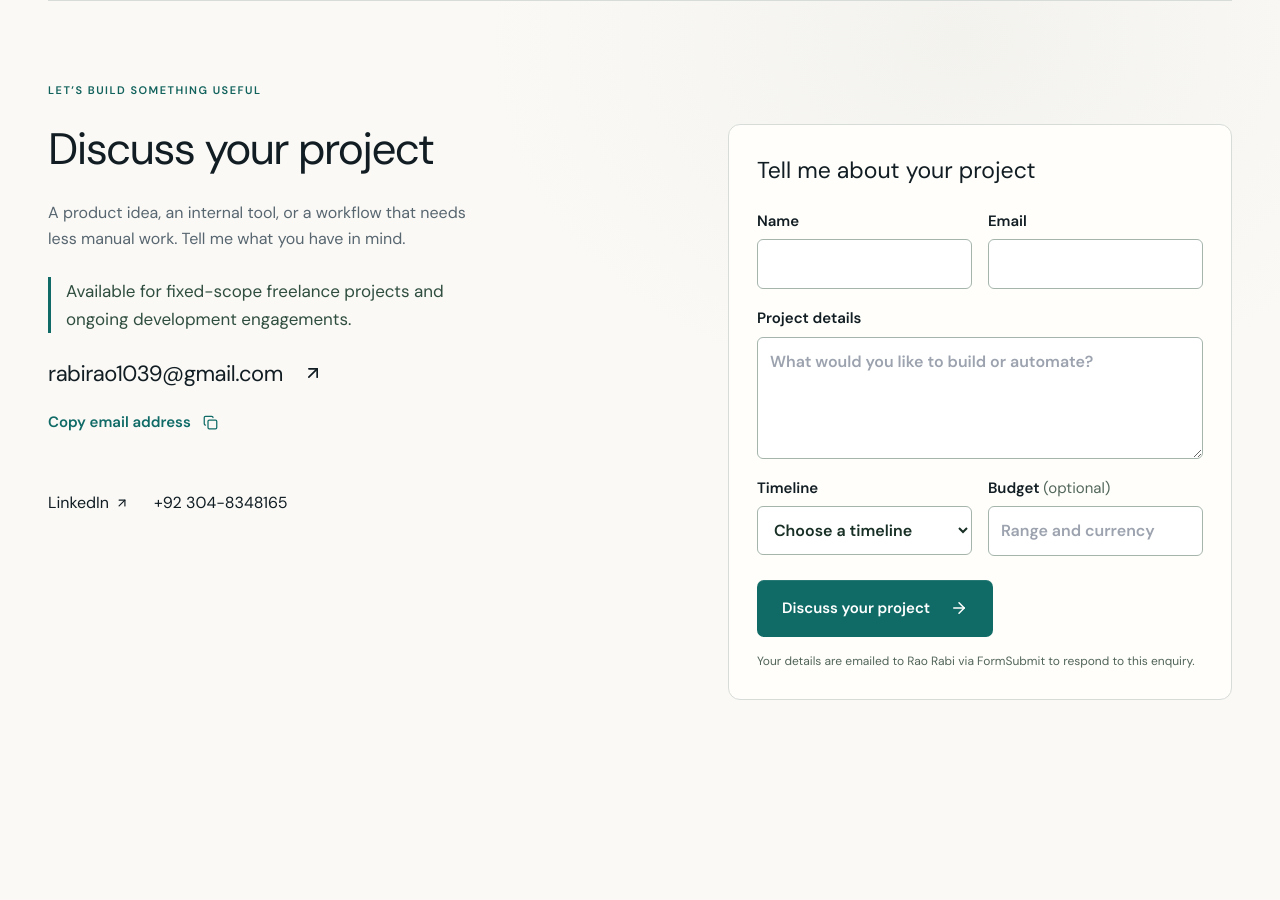
Test: Contact flow › confirms a successful email copy
Click the button "Copy email address" at (133, 422), box top-left (48, 411), bottom-right (218, 433)
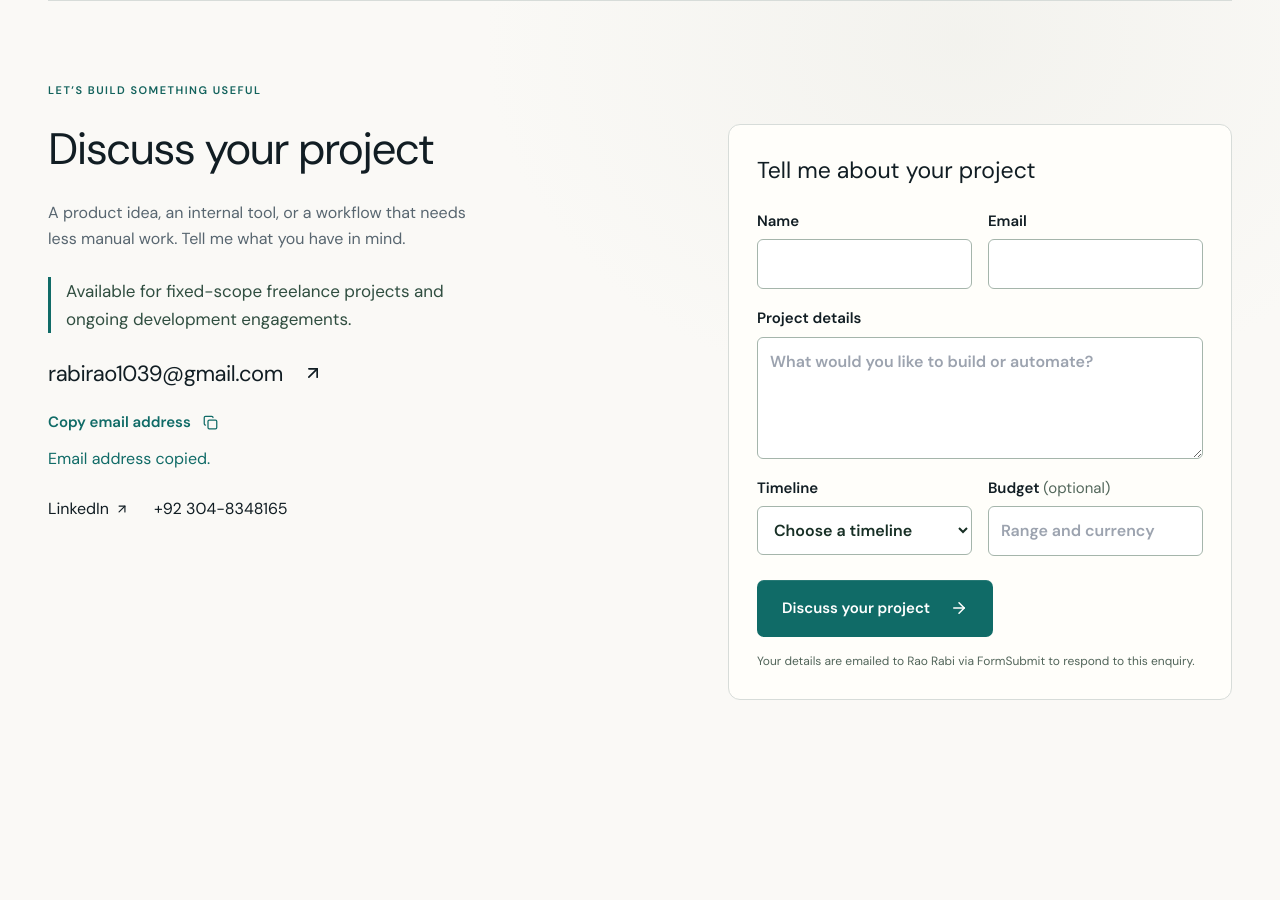
Expected: the text "Email address copied." is shown, top-left (48, 448), bottom-right (210, 469)
